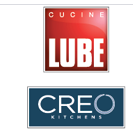creo: (25, 85, 127, 130)
lube: (38, 4, 112, 74)
lube creo: (21, 3, 128, 131)
